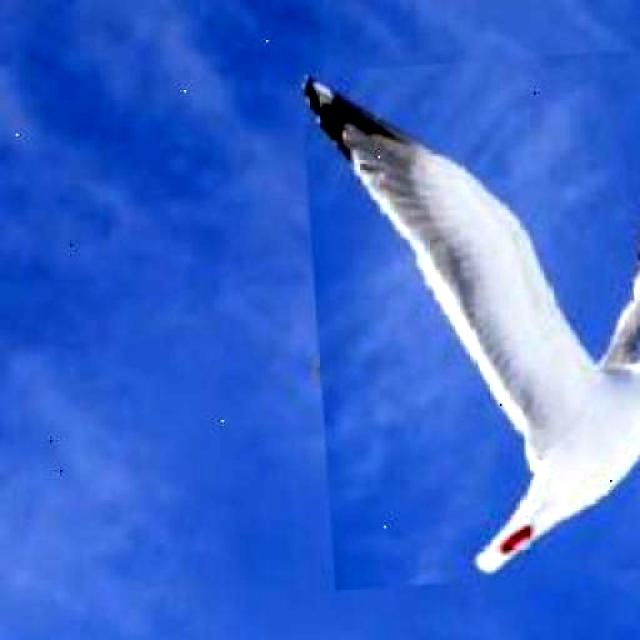airplane: (298, 45, 640, 589)
